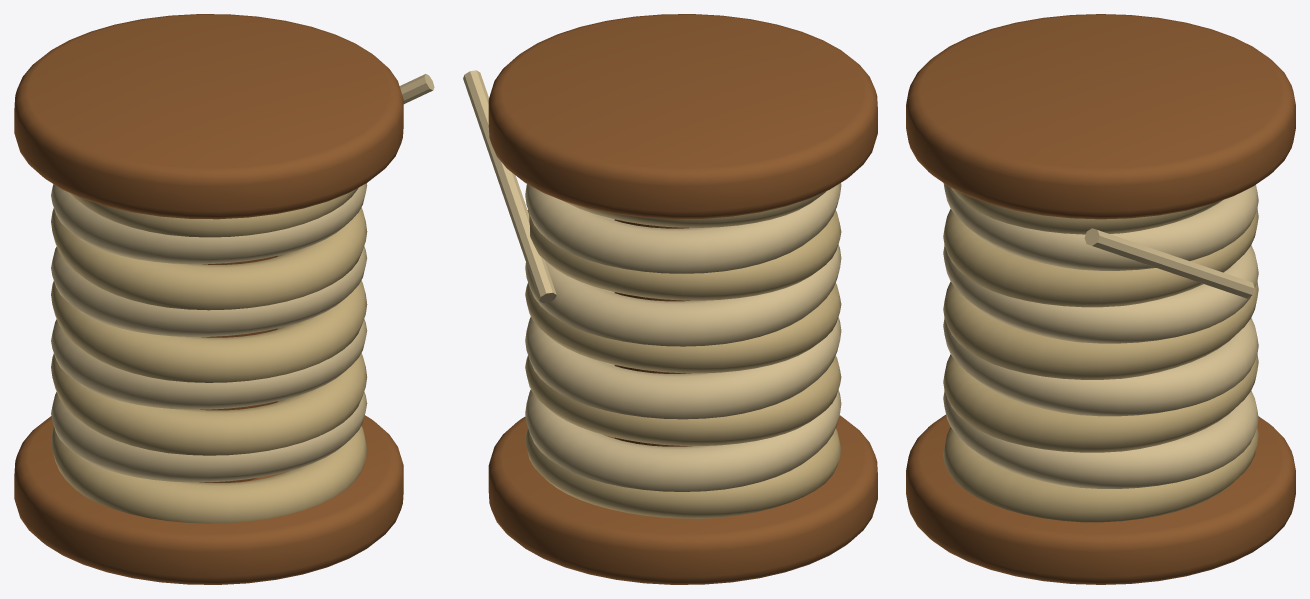
Rendered from garn.glb.
The picture shows the model from 3 angles, left to right: view 1: azimuth 30°, elevation 25°; view 2: azimuth 150°, elevation 25°; view 3: azimuth 270°, elevation 25°; orthographic projection.
Visible parts, largest first — view 1: Cylinder.001, Cylinder, Torus.002, Torus.004, Torus.006, Torus, Torus.001, Torus.003, Torus.005, Torus.007, Torus.008, Cylinder.003 (+1 smaller); view 2: Cylinder.001, Cylinder, Torus.001, Torus.003, Torus.007, Torus.005, Torus.004, Torus.002, Torus.006, Torus, Cylinder.003, Torus.008 (+1 smaller); view 3: Cylinder.001, Cylinder, Torus.001, Torus.002, Torus.004, Torus.003, Torus.005, Torus.006, Torus, Torus.007, Torus.008, Cylinder.003.
Part boxes in pixels (box(x1,y1,x2,y2)): Cylinder.001: box(14, 14, 403, 219); Cylinder: box(14, 415, 403, 584); Torus.002: box(51, 325, 367, 455); Torus.004: box(51, 252, 367, 382); Torus.006: box(51, 207, 367, 310); Torus: box(51, 398, 367, 523); Torus.001: box(51, 391, 367, 482); Torus.003: box(51, 319, 367, 409); Torus.005: box(51, 246, 367, 336); Torus.007: box(51, 183, 367, 264); Torus.008: box(70, 188, 358, 237); Cylinder.003: box(399, 74, 434, 103); Cylinder.001: box(488, 14, 877, 219); Cylinder: box(488, 415, 877, 584); Torus.001: box(525, 362, 841, 491); Torus.003: box(525, 289, 841, 419); Torus.007: box(525, 183, 841, 273); Torus.005: box(525, 216, 841, 346); Torus.004: box(525, 282, 841, 373); Torus.002: box(525, 355, 841, 445); Torus.006: box(527, 210, 841, 300); Torus: box(525, 428, 841, 518); Cylinder.003: box(463, 70, 556, 303); Torus.008: box(565, 191, 825, 227); Cylinder.001: box(906, 14, 1295, 219); Cylinder: box(906, 414, 1295, 584); Torus.001: box(943, 390, 1258, 488); Torus.002: box(943, 354, 1258, 452); Torus.004: box(943, 281, 1258, 379); Torus.003: box(943, 318, 1258, 416); Torus.005: box(943, 245, 1258, 343); Torus.006: box(943, 209, 1258, 307); Torus: box(943, 427, 1258, 522); Torus.007: box(943, 183, 1258, 270); Torus.008: box(951, 188, 1222, 234); Cylinder.003: box(1084, 228, 1254, 298).
Bounding box in the file's own units: 0.1968 × 0.2 × 0.17.
